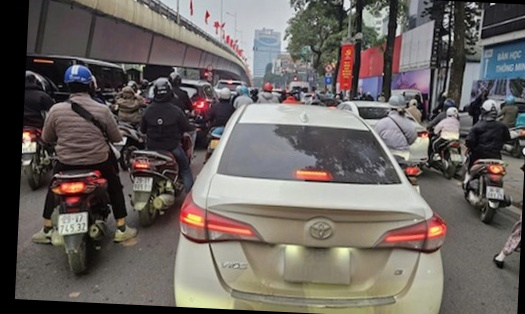Bien-so: (31, 202, 62, 229), (109, 170, 129, 185), (468, 191, 486, 205), (0, 131, 12, 142), (391, 186, 401, 198), (432, 156, 446, 164)
